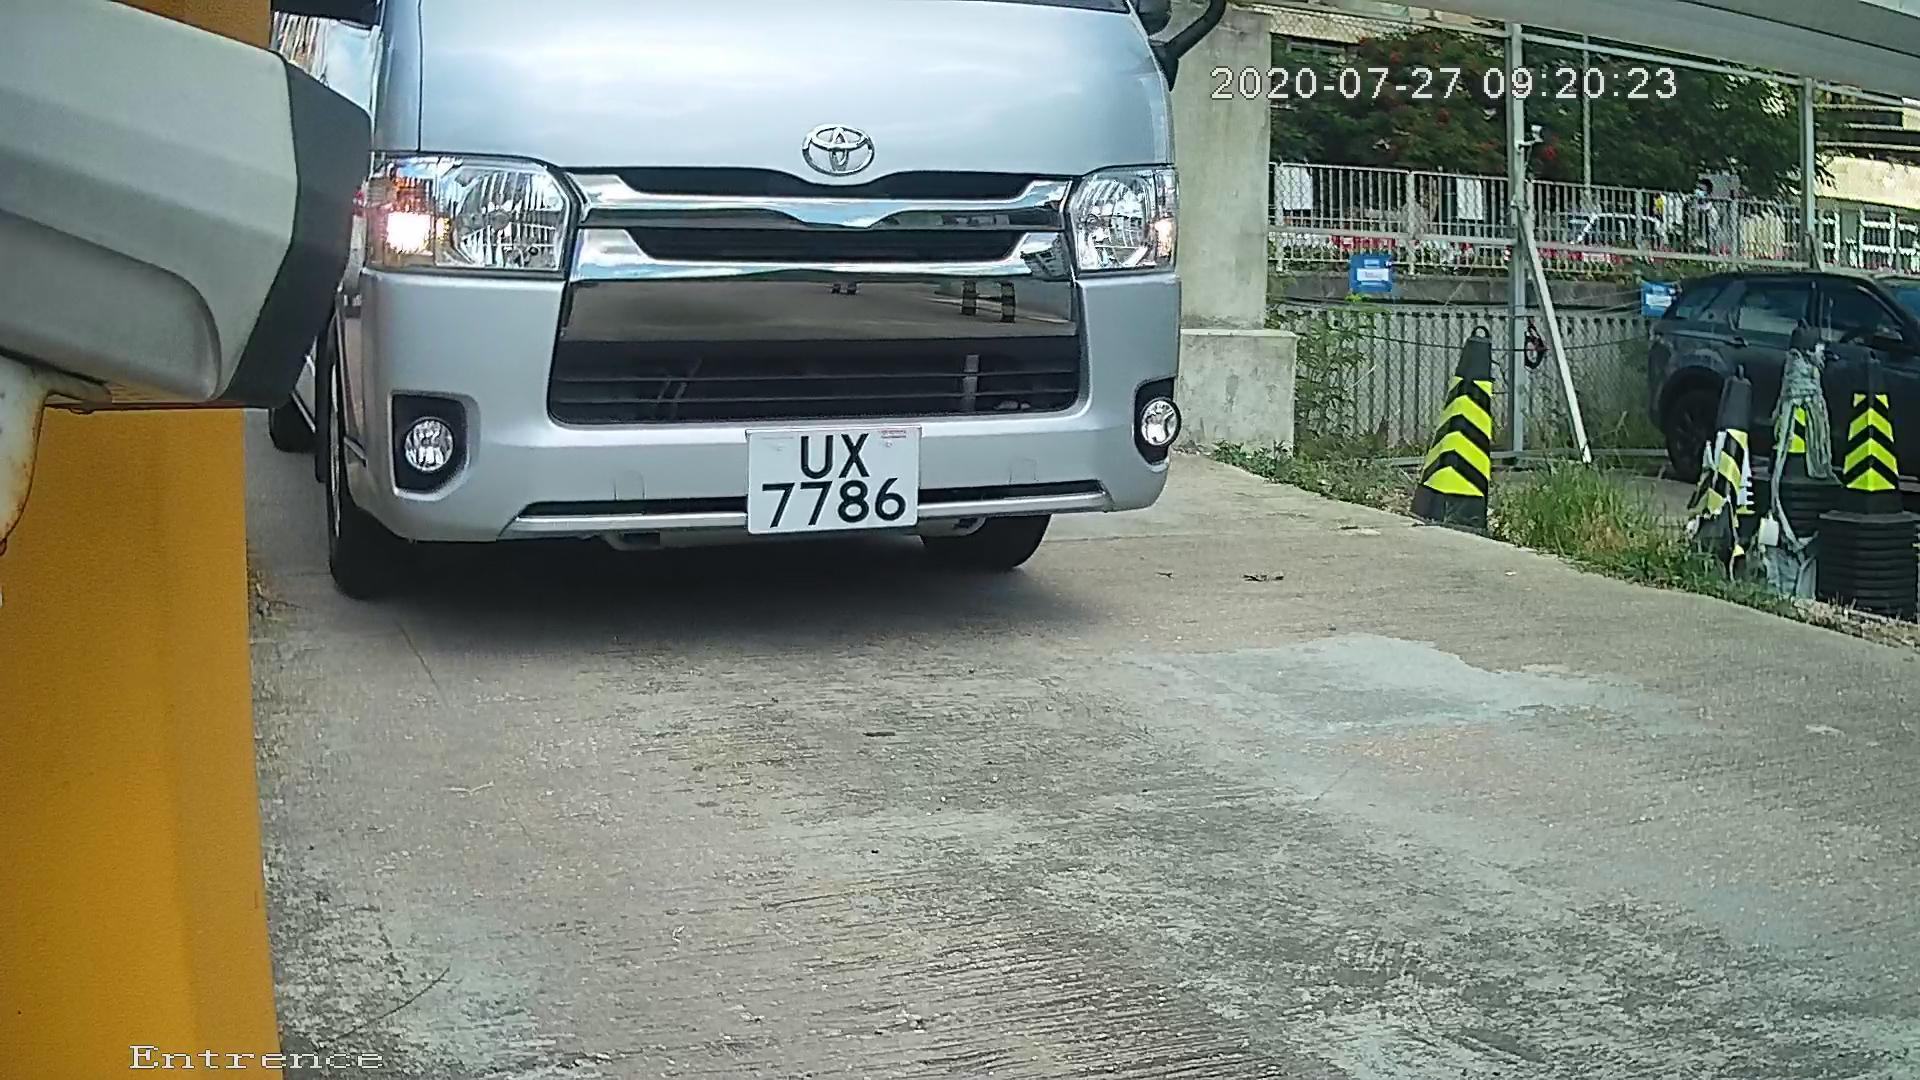Car: (172, 25, 1269, 622)
License Plate: (729, 415, 935, 541)
